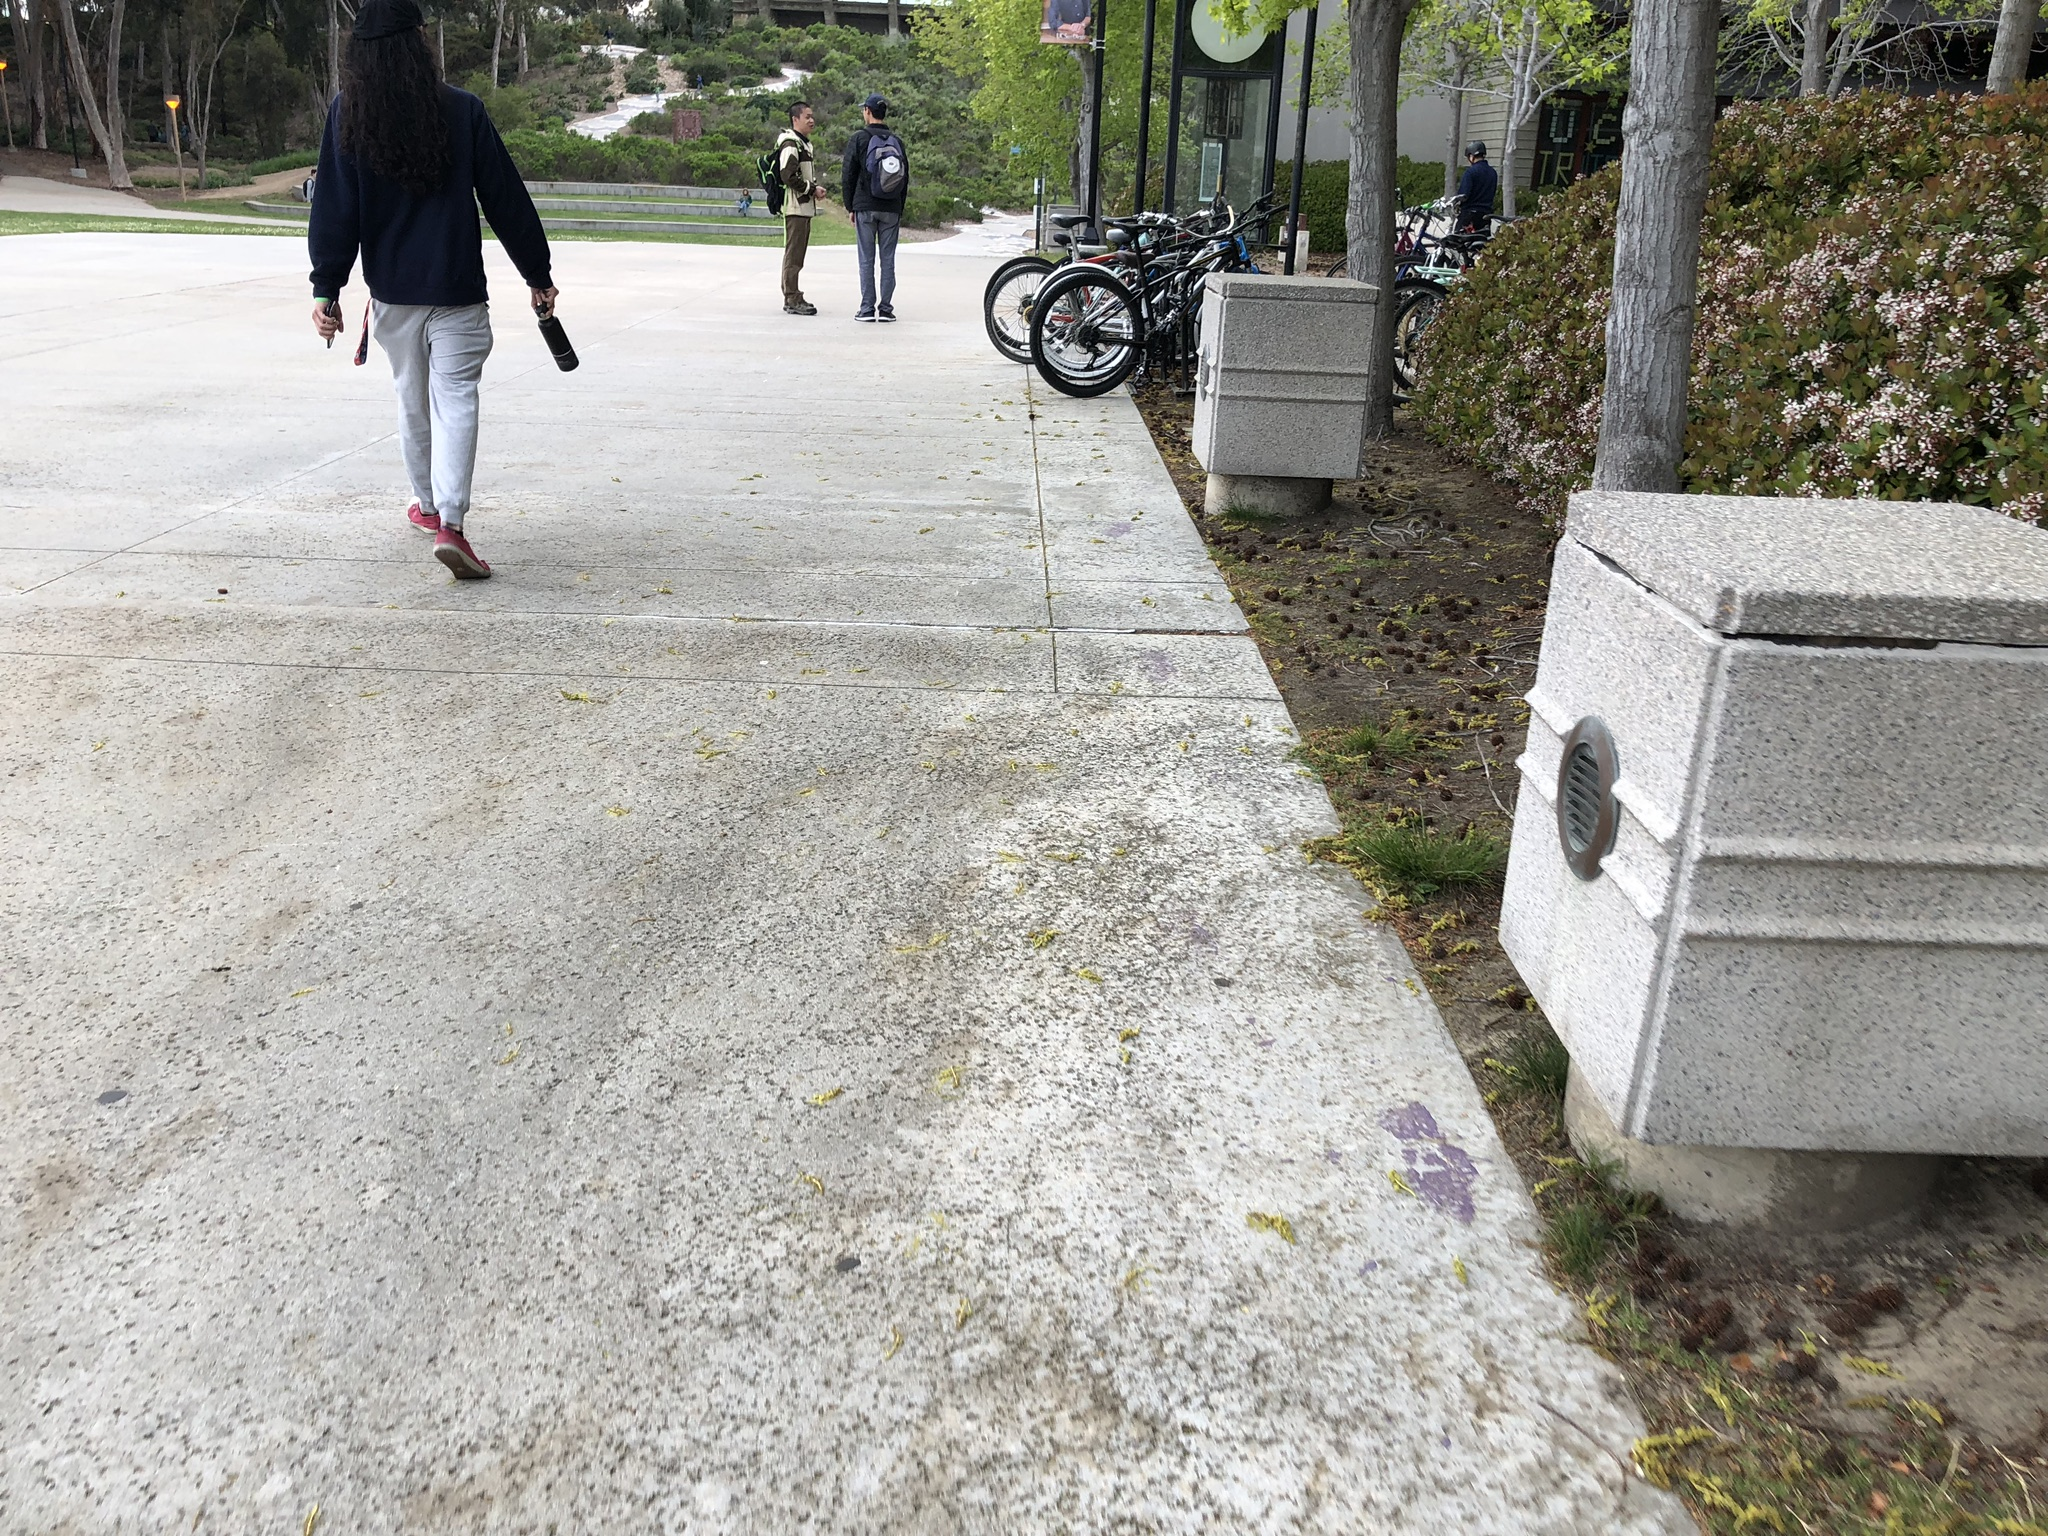Edge: (1126, 394, 1696, 1526)
Obstacle: (1476, 465, 2048, 1241), (276, 6, 584, 653), (1164, 253, 1393, 529), (955, 210, 1266, 407), (764, 103, 918, 324)
